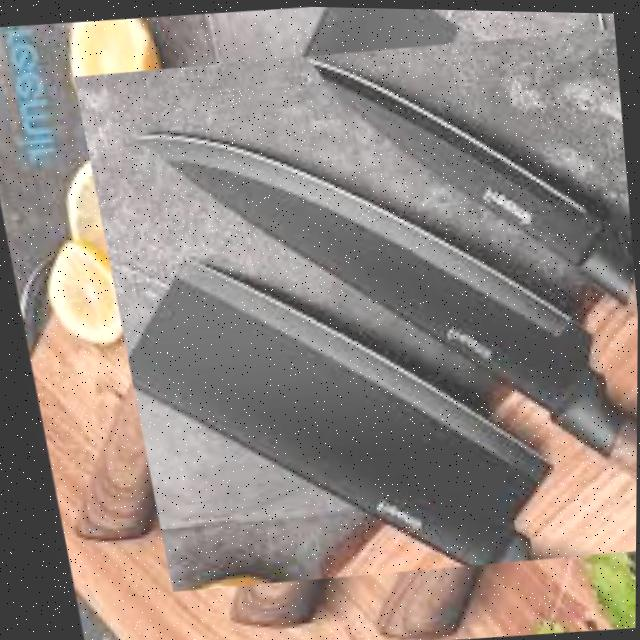knife: (129, 87, 640, 554), (119, 228, 561, 596), (300, 27, 640, 347)
